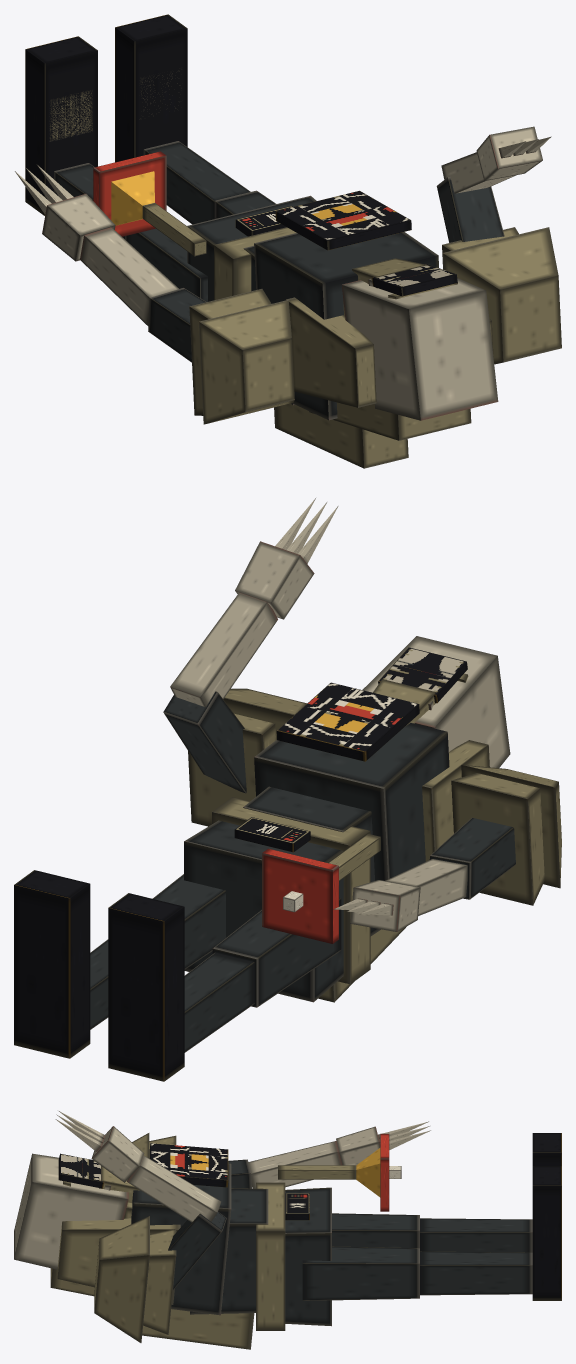
The model's file is calmor_neutral.obj.
3 views of the same model, one above another, from view 1: azimuth 30°, elevation 25°; view 2: azimuth 150°, elevation 25°; view 3: azimuth 270°, elevation 25° (orthographic). The views are drawn at different scales.
Visible parts, largest first — view 1: calmor_neutral; view 2: calmor_neutral; view 3: calmor_neutral.
Boxes of the visible parts, left/top/right/bottom form: calmor_neutral: left=15, top=14, right=561, bottom=468; calmor_neutral: left=14, top=498, right=561, bottom=1081; calmor_neutral: left=14, top=1111, right=561, bottom=1349.
Size of the model in its own units: 0.5628 by 0.5333 by 1.
Materials: 1 (1 with a texture image).
